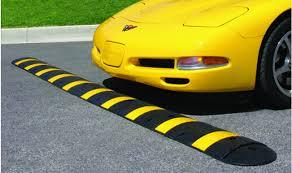Bump: (12, 57, 265, 161)
